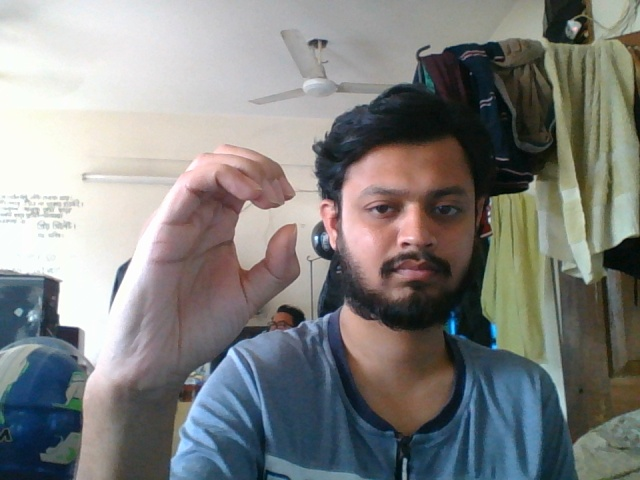ka: (100, 139, 305, 428)
